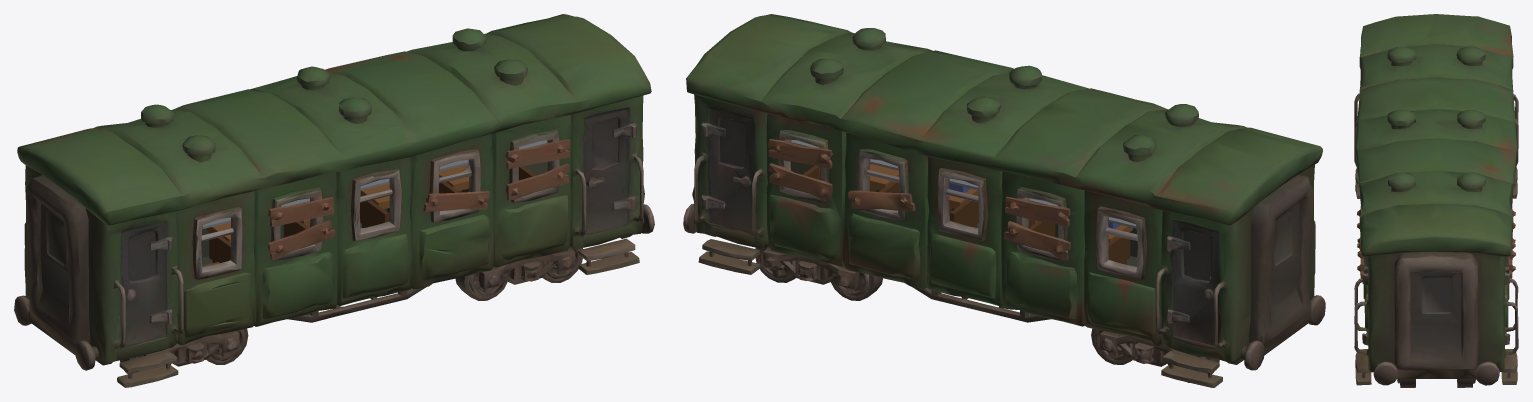
The model's file is train_coach_b.glb.
3 renders of one model, left to right at view 1: azimuth 30°, elevation 25°; view 2: azimuth 150°, elevation 25°; view 3: azimuth 270°, elevation 25°, orthographic. The views are drawn at different scales.
Visible parts, largest first — view 1: body, door_front_r, door_front_l, wheel_5, wheel_7; view 2: body, door_back_r, door_back_l, wheel_6, wheel_4, wheel_8; view 3: body, door_front_r, wheel_7, wheel_8.
Boxes of the visible parts, x1=… form: body: x1=14, y1=14, x2=654, y2=387; door_front_r: x1=582, y1=109, x2=642, y2=247; door_front_l: x1=115, y1=222, x2=170, y2=361; wheel_5: x1=455, y1=267, x2=511, y2=300; wheel_7: x1=542, y1=247, x2=582, y2=282; body: x1=683, y1=14, x2=1325, y2=387; door_back_r: x1=695, y1=108, x2=755, y2=247; door_back_l: x1=1168, y1=222, x2=1223, y2=360; wheel_6: x1=826, y1=267, x2=882, y2=300; wheel_4: x1=1091, y1=328, x2=1132, y2=364; wheel_8: x1=755, y1=246, x2=795, y2=282; body: x1=1354, y1=14, x2=1518, y2=385; door_front_r: x1=1354, y1=268, x2=1368, y2=350; wheel_7: x1=1397, y1=379, x2=1415, y2=387; wheel_8: x1=1457, y1=379, x2=1475, y2=387.
Bounding box in the file's own units: 8 × 3.1 × 2.4.
Materials: 9 (4 with a texture image).
